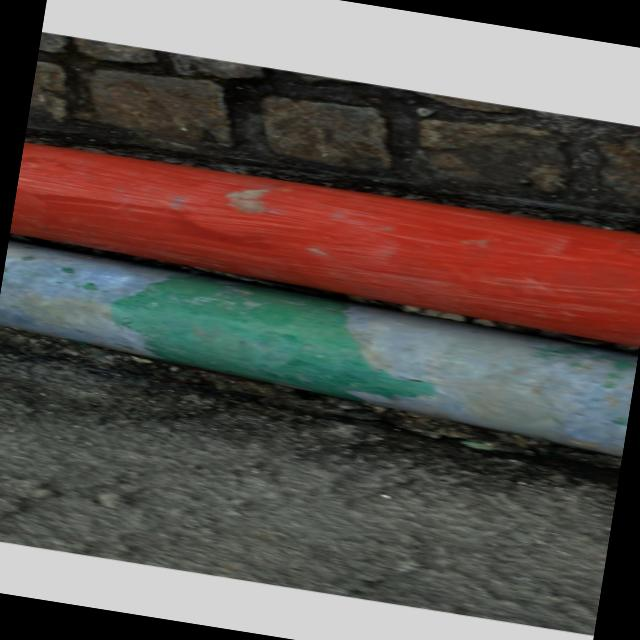gas: (0, 237, 640, 449), (8, 132, 640, 345)
